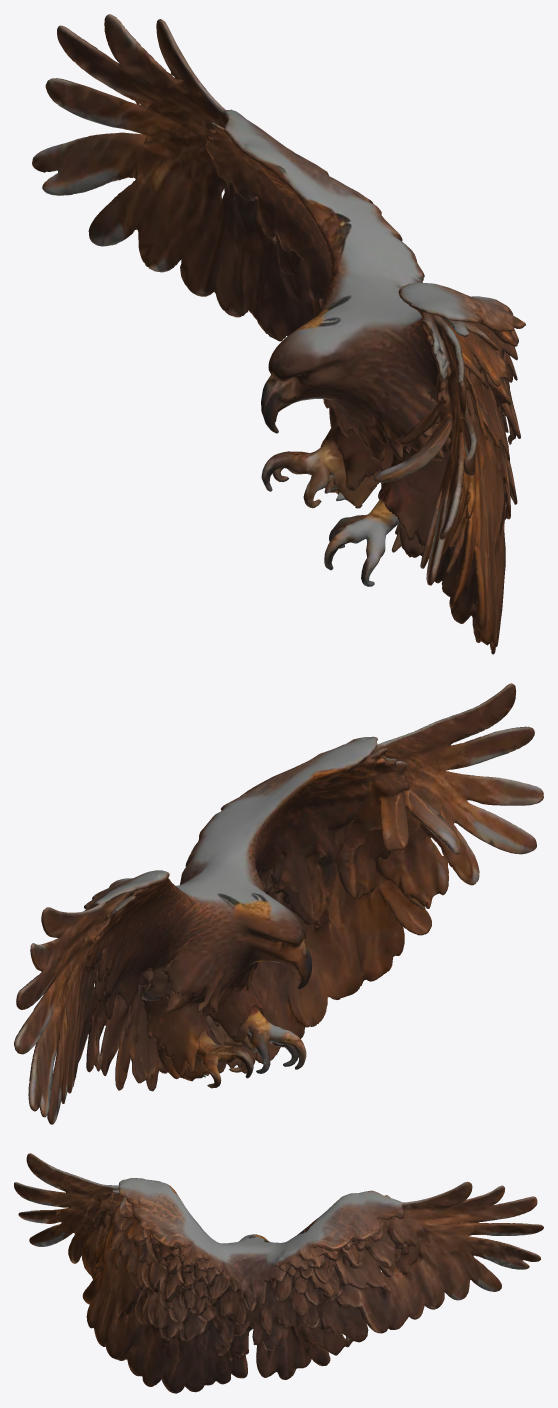
File: aguia-3d.glb
3 renders of one model, top to bottom at view 1: azimuth 30°, elevation 25°; view 2: azimuth 150°, elevation 25°; view 3: azimuth 270°, elevation 25°, orthographic. The views are drawn at different scales.
Parts seen in each view (by area): view 1: tripo_node_8e03966e-2ef0-4175-9d28-05bc4df85ff1; view 2: tripo_node_8e03966e-2ef0-4175-9d28-05bc4df85ff1; view 3: tripo_node_8e03966e-2ef0-4175-9d28-05bc4df85ff1.
Part boxes in pixels (bbox=[...]): tripo_node_8e03966e-2ef0-4175-9d28-05bc4df85ff1: bbox=[32, 14, 525, 654]; tripo_node_8e03966e-2ef0-4175-9d28-05bc4df85ff1: bbox=[14, 683, 543, 1124]; tripo_node_8e03966e-2ef0-4175-9d28-05bc4df85ff1: bbox=[14, 1153, 543, 1393].
Size of the model in its own units: 0.2706 by 0.4289 by 0.9994.
Materials: 1 (1 with a texture image).
